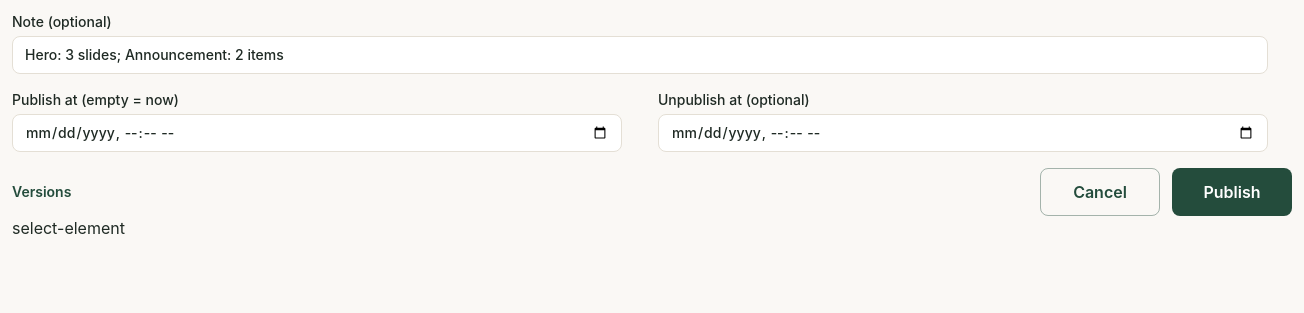
Test: PublishPanel › shows a readable error for non-422 publish failures
Step 1. Click the button "Publish" → [1232, 192], box [1172,168,1292,216]
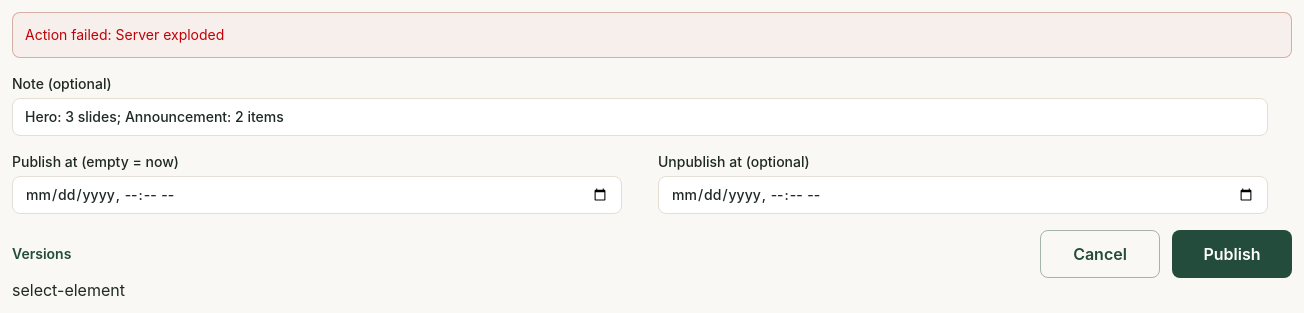
Check: the text "Action failed: Server exploded" is shown, box [12,12,1292,58]
